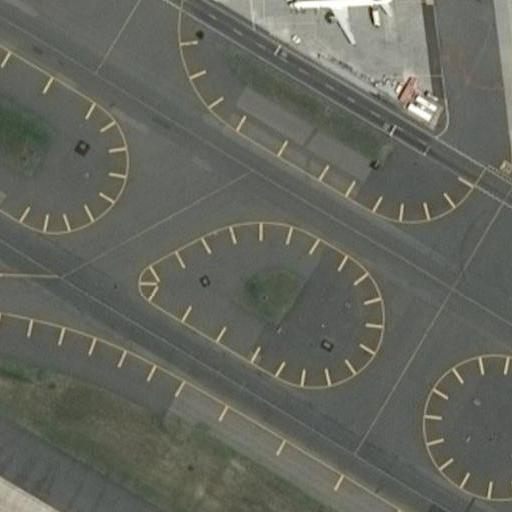Aircraft: (286, 0, 397, 44)
